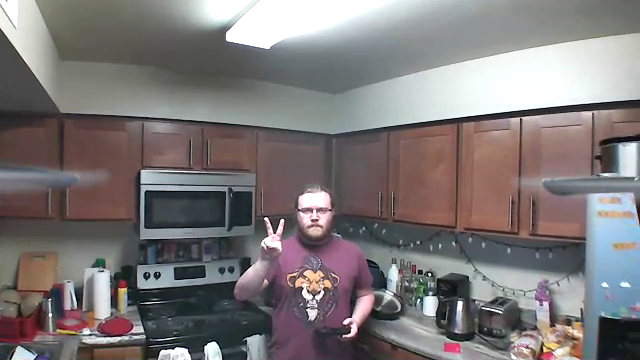peace: (257, 211, 290, 259)
